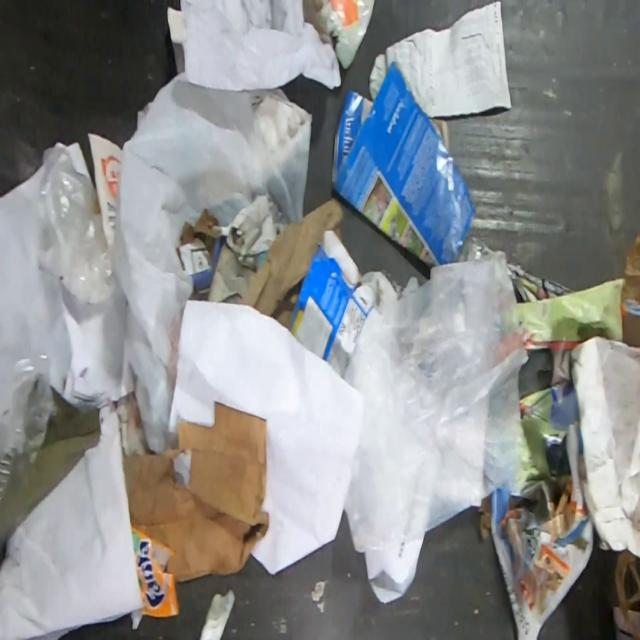cardboard: (287, 228, 375, 379), (39, 140, 116, 304), (176, 207, 220, 292)
rigid_plastic: (0, 351, 58, 546)
soft_plastic: (113, 69, 312, 455), (341, 249, 533, 556), (179, 0, 342, 92), (130, 526, 180, 618), (316, 0, 375, 69)
